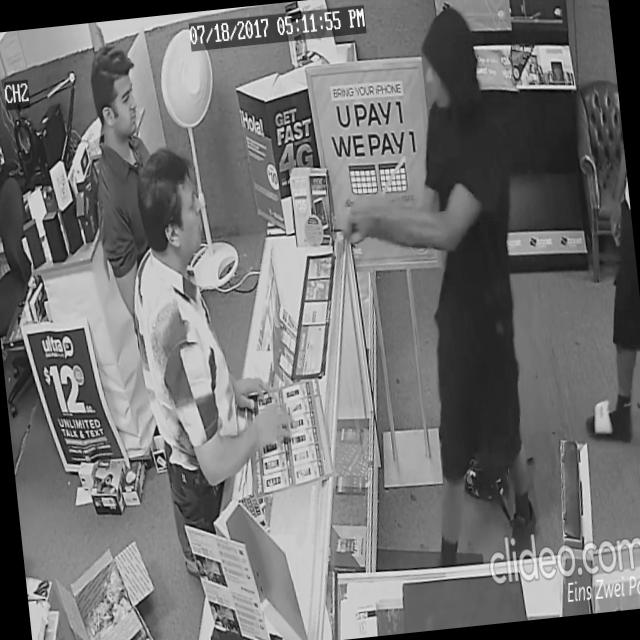person: (114, 135, 310, 579), (77, 41, 178, 367), (558, 162, 640, 477)
person with a gun: (318, 0, 550, 572)
